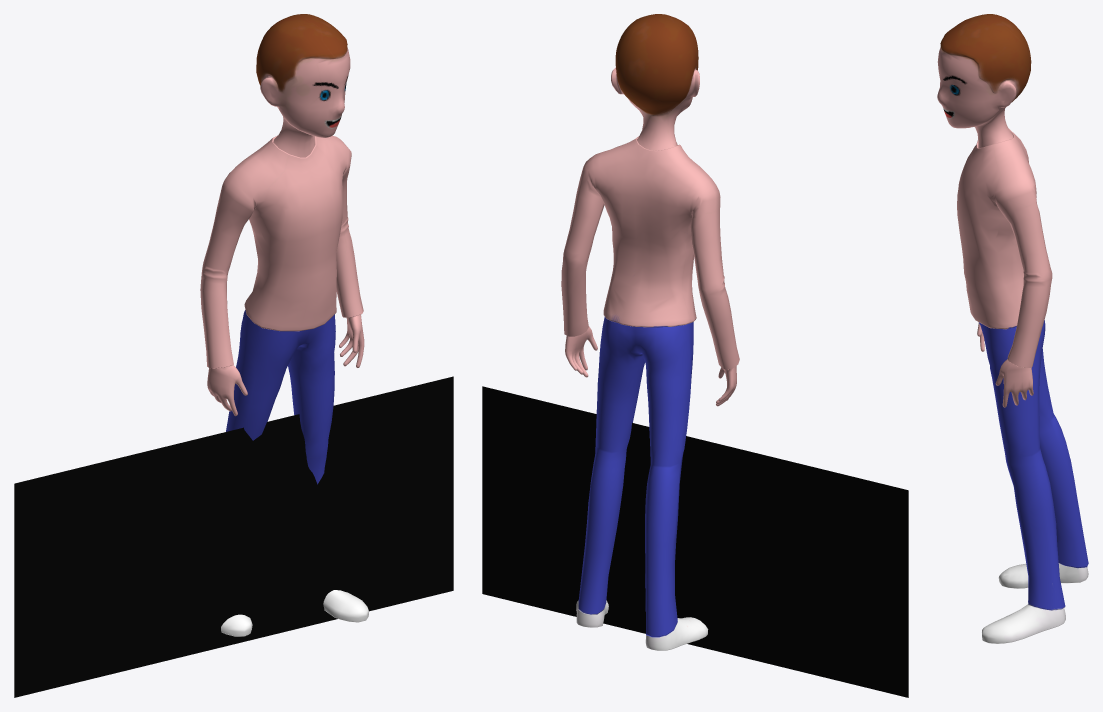
The model's file is chico2 - fase3.fbx.
3 views of the same model, side by side, from view 1: azimuth 30°, elevation 25°; view 2: azimuth 150°, elevation 25°; view 3: azimuth 270°, elevation 25° (orthographic). The views are drawn at different scales.
Visible parts, largest first — view 1: node_id6, node_id9; view 2: node_id6, node_id9; view 3: node_id9.
Boxes of the visible parts, box(x1,y1,x2,y2) form: node_id6: box(14, 376, 453, 697); node_id9: box(200, 14, 368, 636); node_id6: box(482, 386, 908, 697); node_id9: box(561, 14, 739, 650); node_id9: box(937, 14, 1088, 643).
Bounding box in the file's own units: 0.512 × 0.6927 × 0.1582.
Materials: 2 (2 with a texture image).
